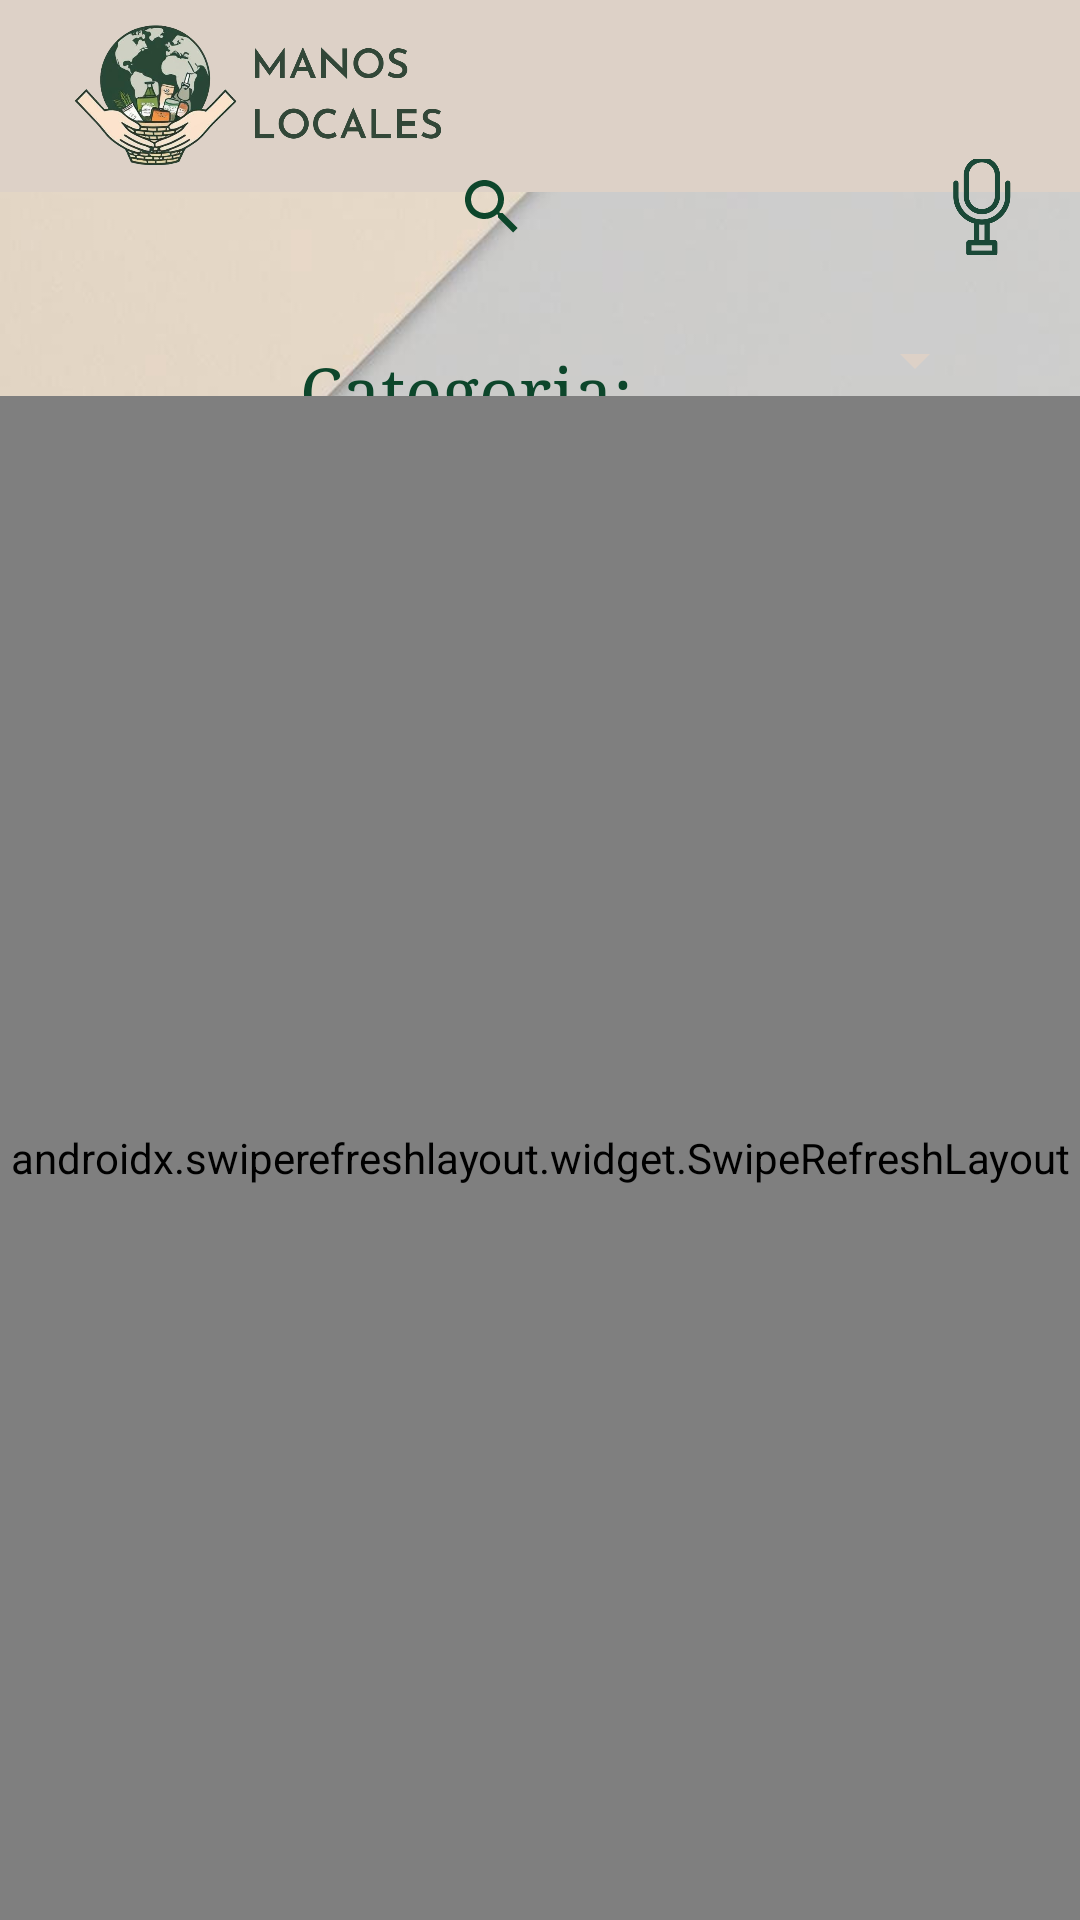

Screen size 1080 × 1920. Icon name, then its center in pixels as [x,y]:
Búsqueda por voz: [982,207]
